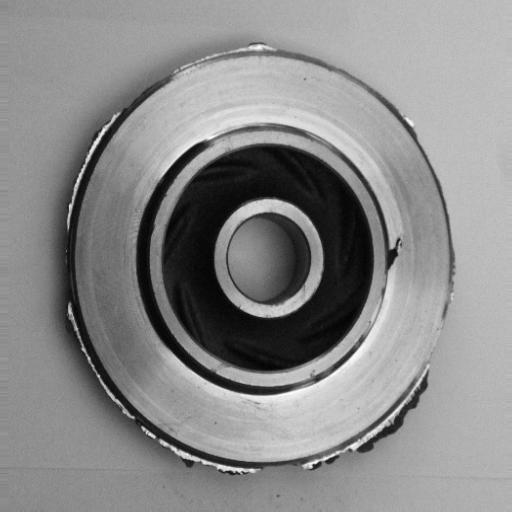casting_with_burr: (60, 39, 458, 480)
crack: (379, 225, 412, 279)
